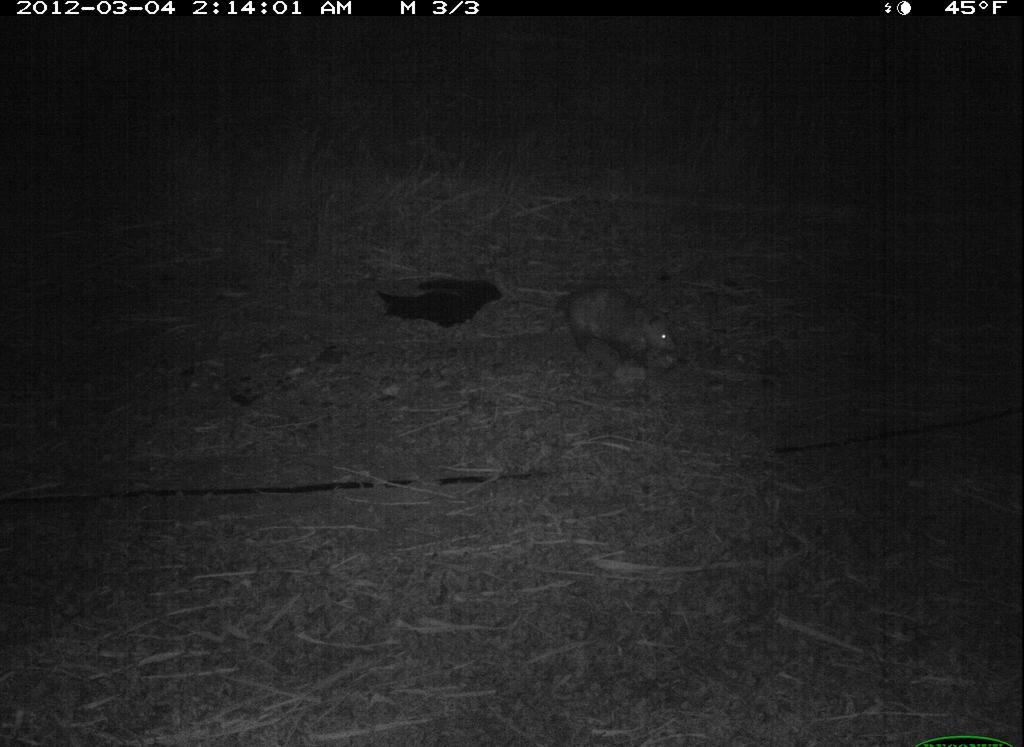opossum: (529, 277, 698, 378)
